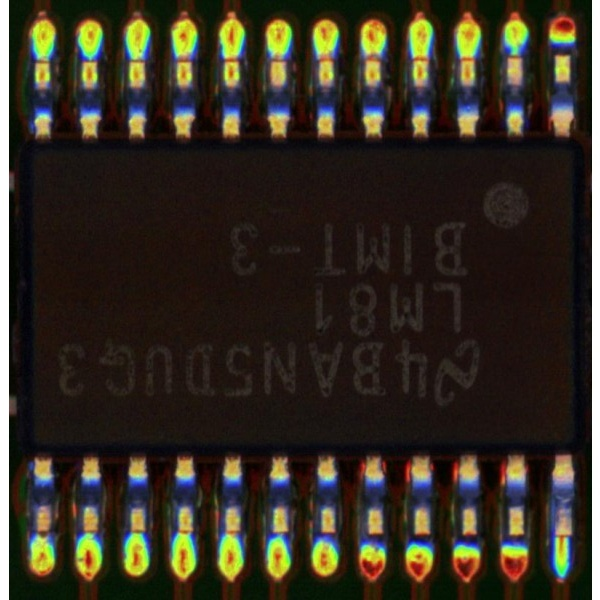Bad_podu: (554, 525, 568, 547)
